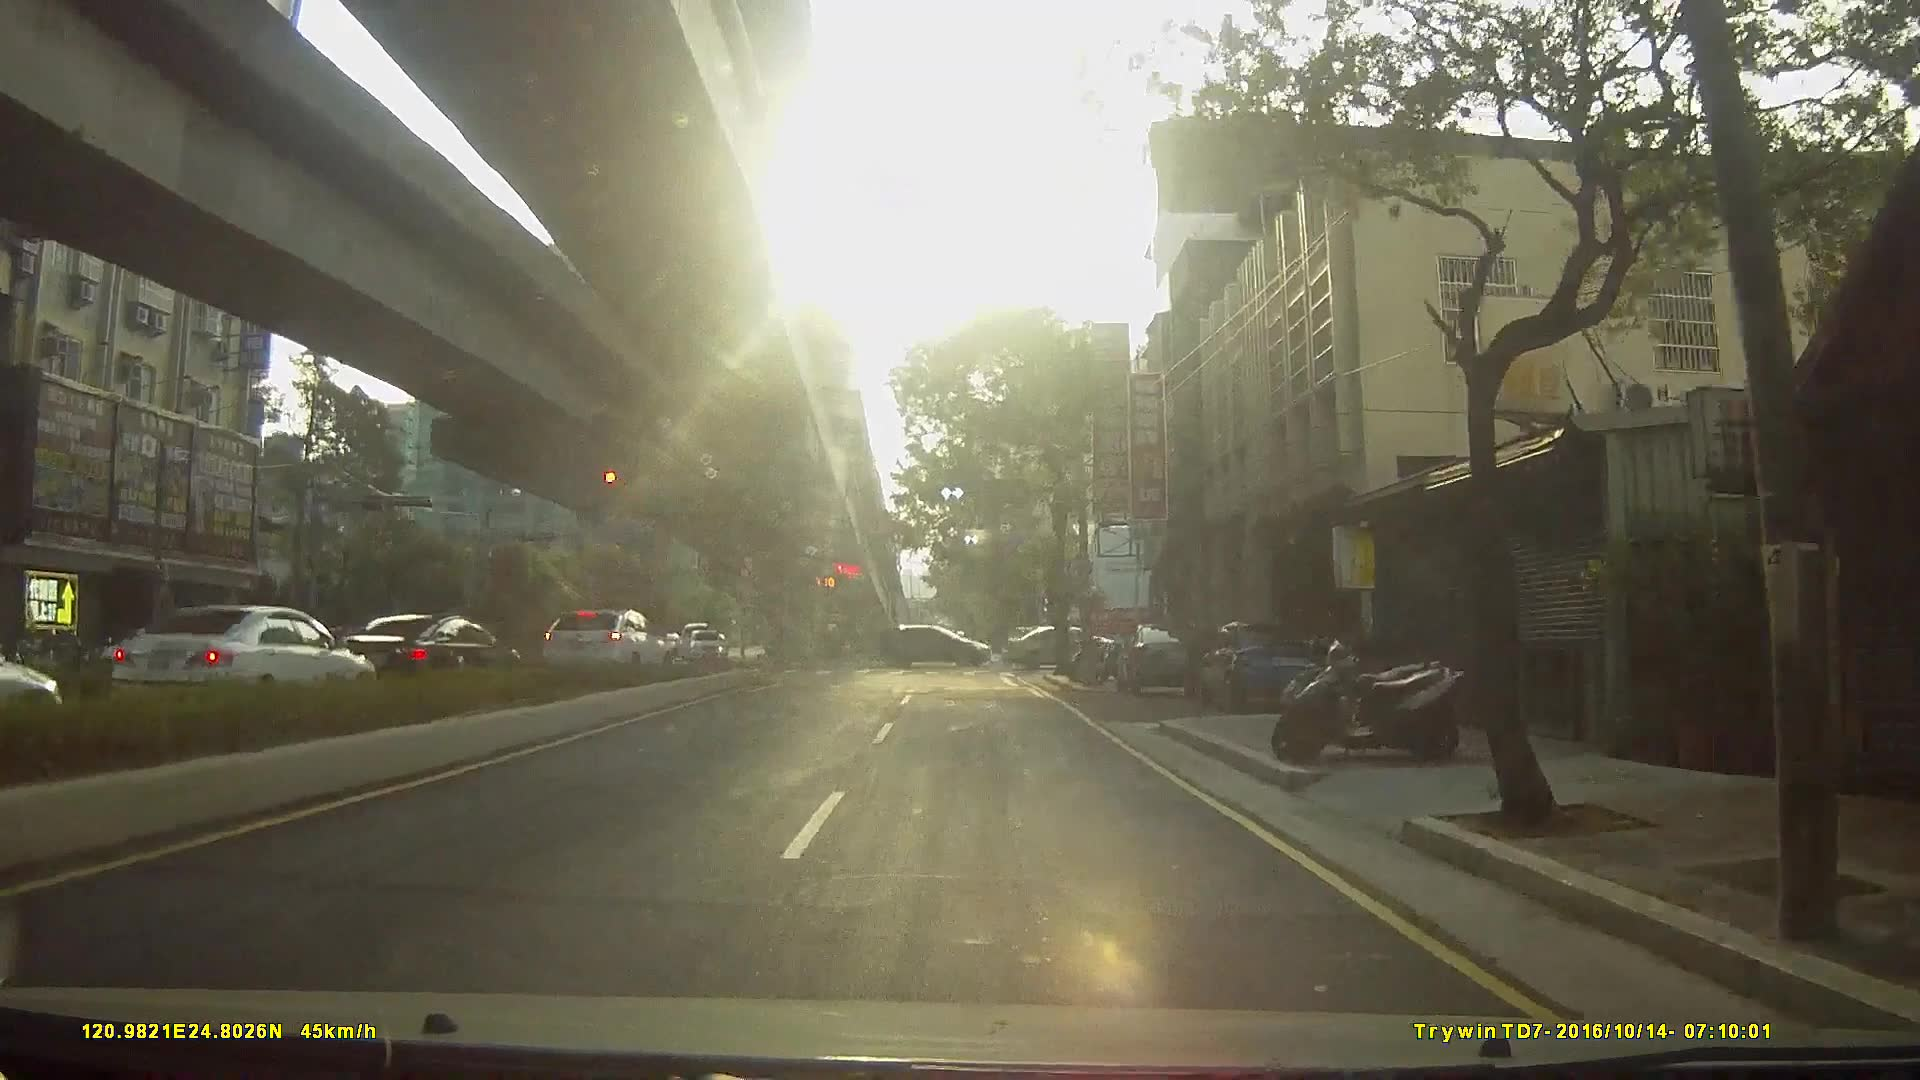vehicle: (88, 603, 367, 712), (331, 609, 520, 688), (1200, 617, 1325, 713), (534, 607, 670, 676), (1113, 618, 1211, 694), (1, 647, 70, 737), (1011, 622, 1127, 670), (880, 622, 996, 669), (684, 626, 729, 665)
